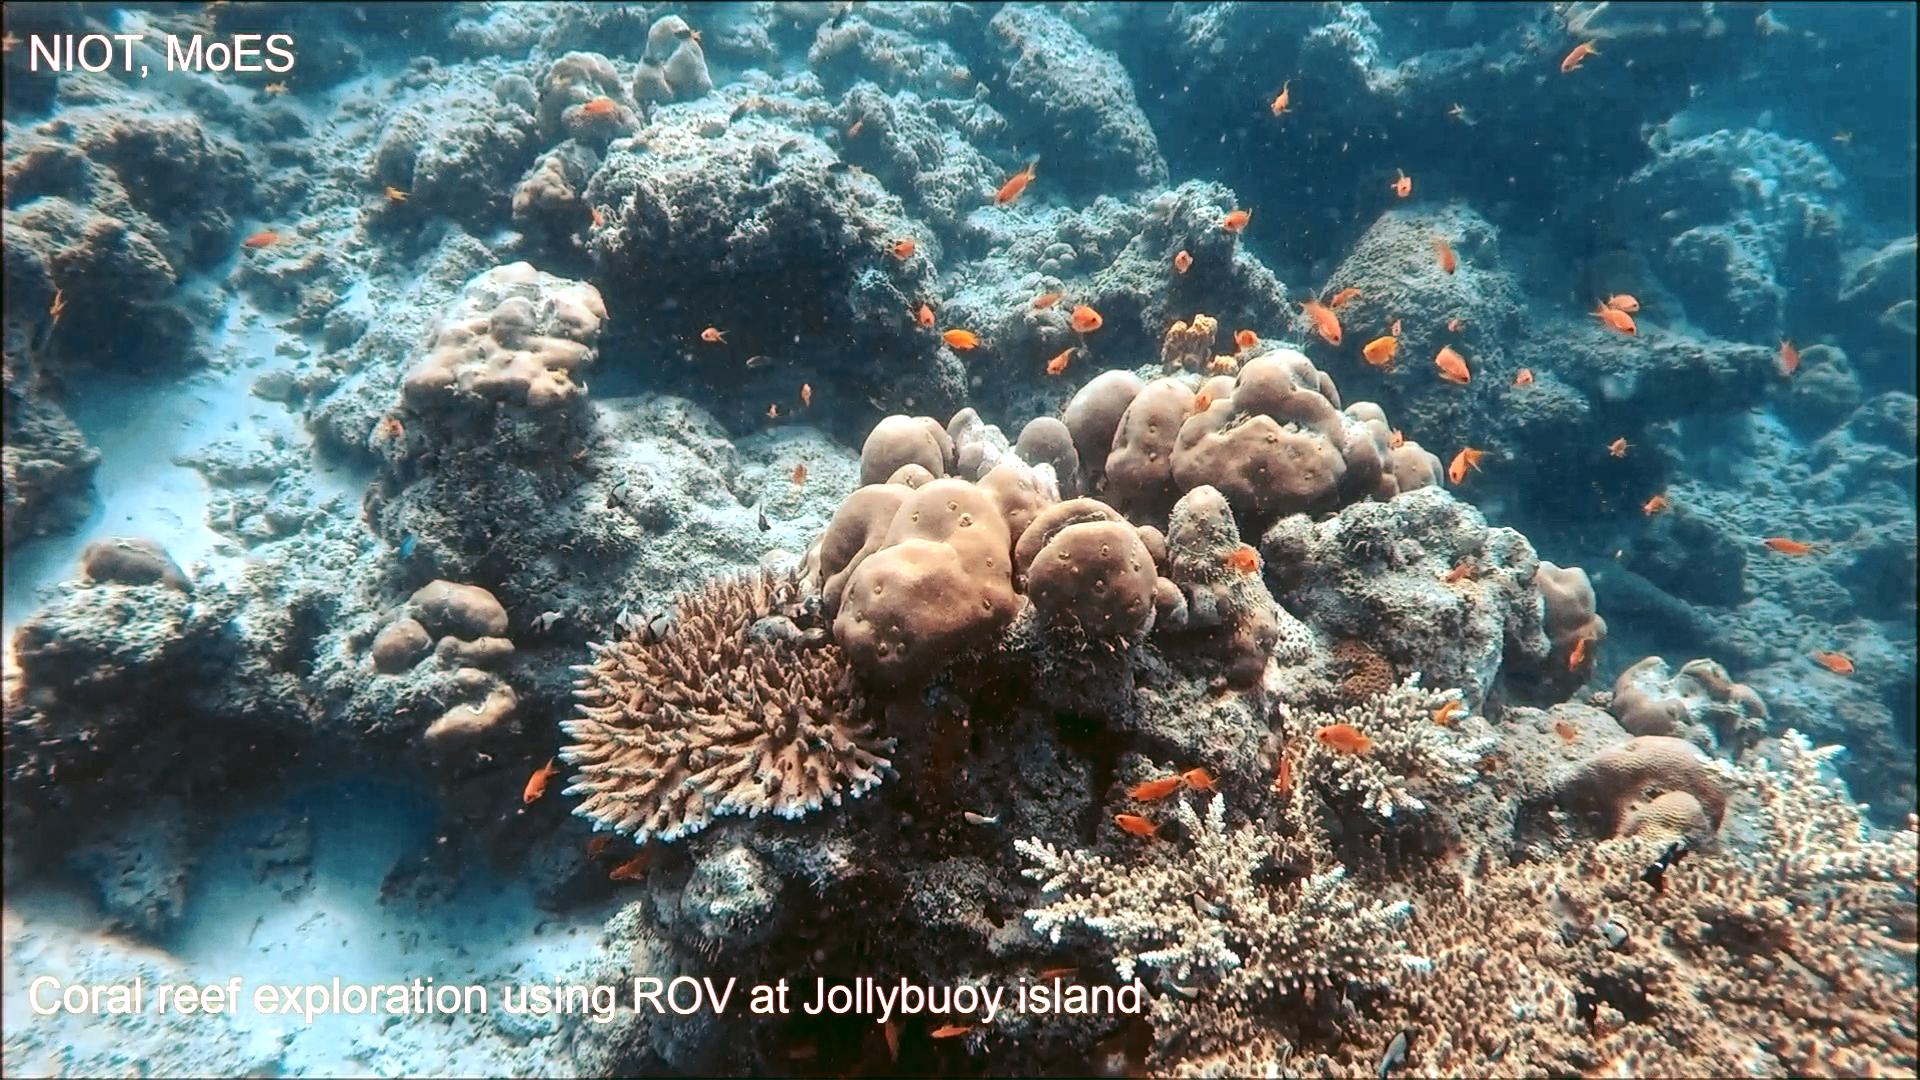Porites-Porites pukoensis: (790, 401, 1163, 702), (1046, 344, 1448, 525)
